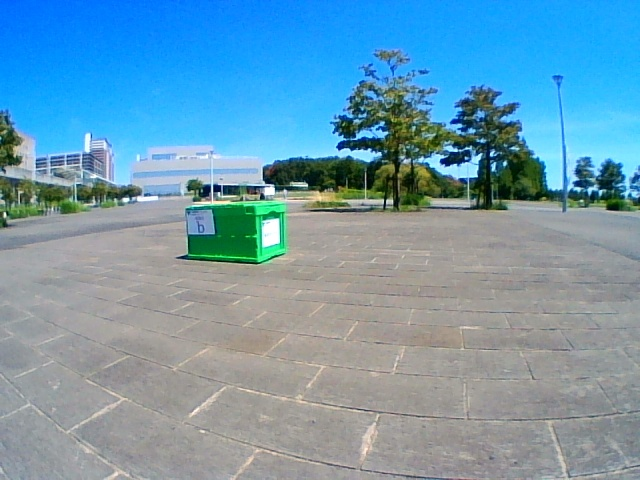green_box: (186, 202, 288, 263)
tag_b: (188, 209, 213, 233)
